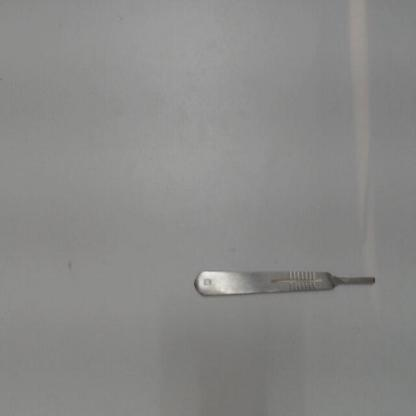No.4 BP Handle: (184, 261, 386, 311)
